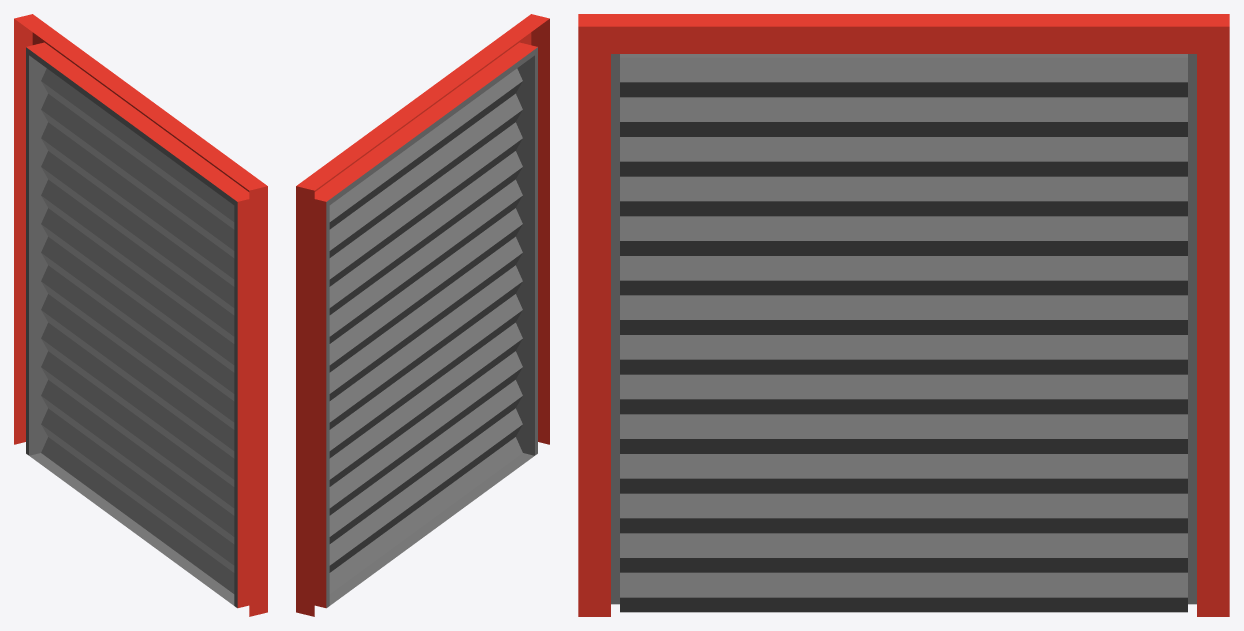
The model's file is P_Door_04.dae.
3 renders of one model, left to right at view 1: azimuth 30°, elevation 25°; view 2: azimuth 150°, elevation 25°; view 3: azimuth 270°, elevation 25°, orthographic. The views are drawn at different scales.
Visible parts, largest first — view 1: Door_04; view 2: Door_04; view 3: Door_04.
Part boxes in pixels (x1=…): Door_04: x1=14, y1=14, x2=267, y2=616; Door_04: x1=296, y1=14, x2=549, y2=616; Door_04: x1=578, y1=14, x2=1229, y2=616.
Size of the model in its own units: 0.1127 by 2.4 by 2.4.
